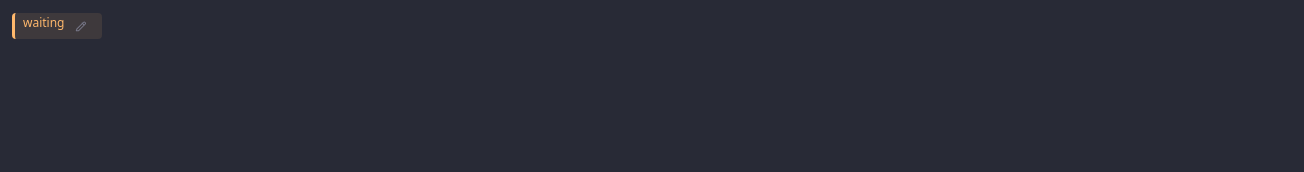
Test: BoardReason › edits, clears and cancels an existing reason
Later steps or results of the test are not shown.
Double-click the text "waiting" at (44,23), box x1=23 y1=15 x2=64 y2=32
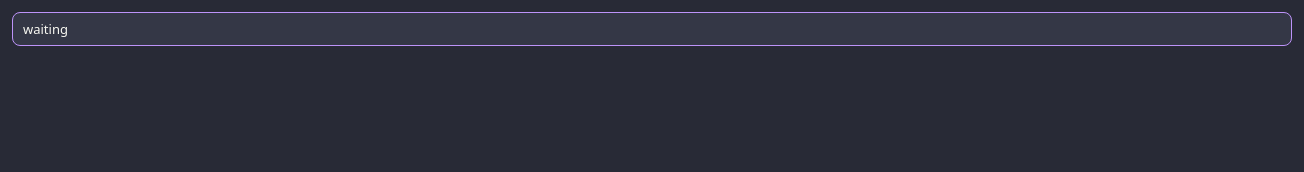
Clear the field named "Reason". click: (652,29)
box: x1=12 y1=12 x2=1292 y2=46
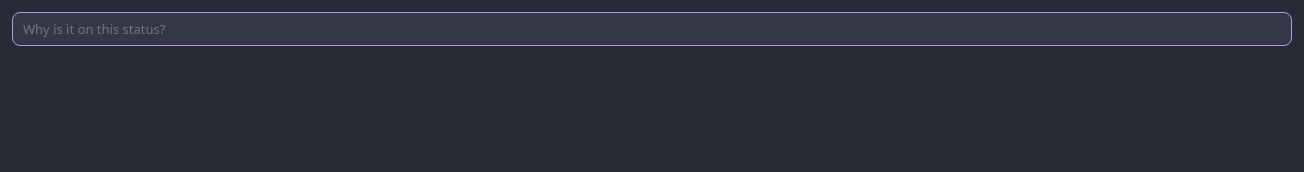
Press Enter
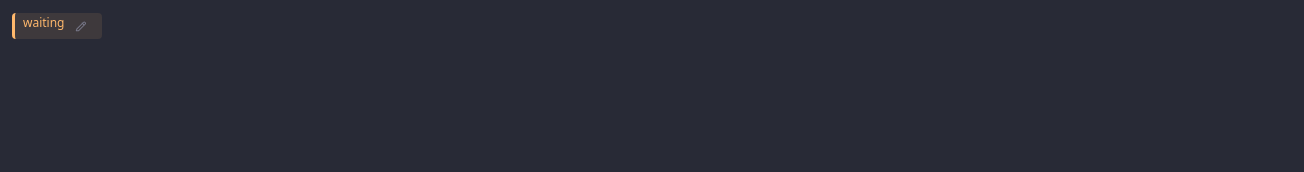
Click the button named "Edit the reason of Task". click: (82,26)
box: x1=68 y1=15 x2=94 y2=37
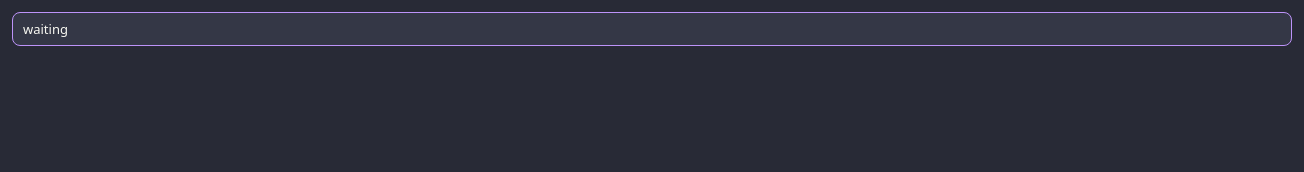
Type "!" into the field named "Reason". click: (652,29)
box: x1=12 y1=12 x2=1292 y2=46
Then press Escape
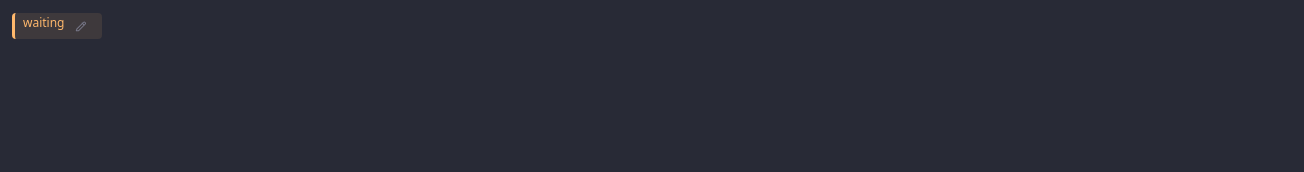
expect the field is gone: met
